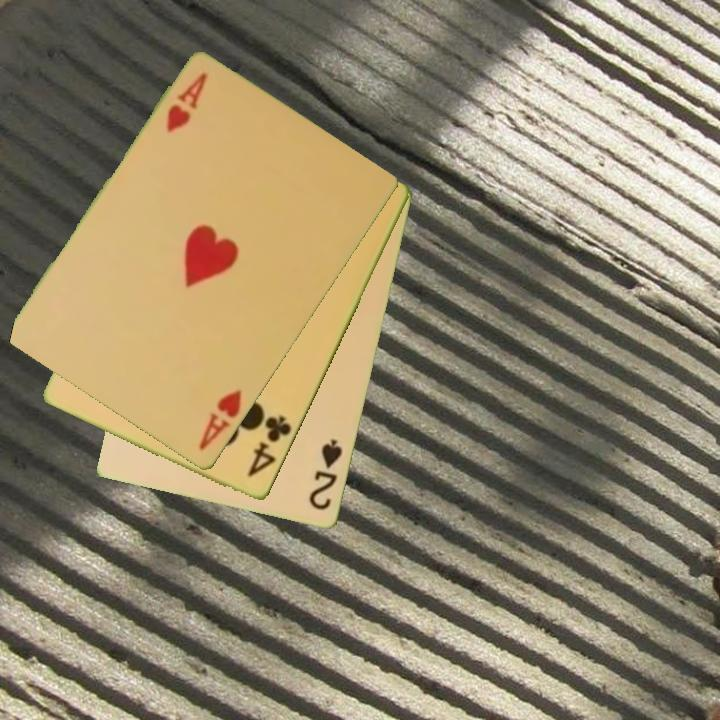2s: (305, 436, 346, 514)
4c: (244, 412, 295, 481)
Ah: (195, 387, 245, 454), (162, 70, 210, 137)
